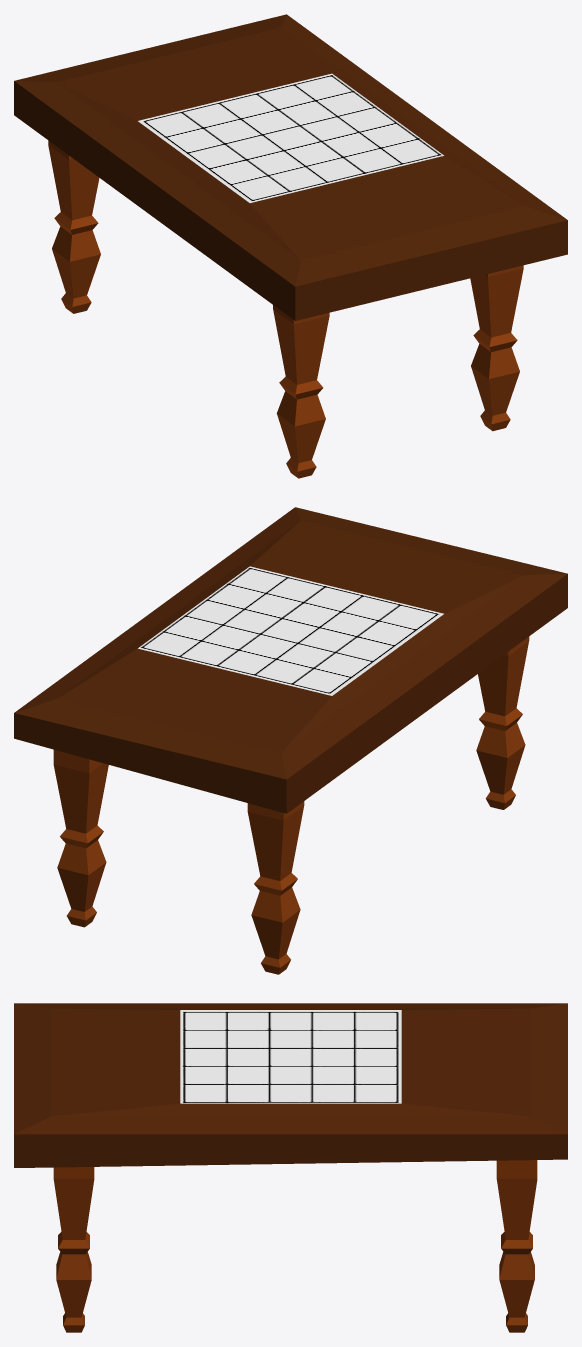
The model's file is table puzzel.fbx.
The picture shows the model from 3 angles, top to bottom: view 1: azimuth 30°, elevation 25°; view 2: azimuth 150°, elevation 25°; view 3: azimuth 270°, elevation 25°; orthographic projection.
Parts seen in each view (by area): view 1: pCube51; view 2: pCube51; view 3: pCube51.
Boxes of the visible parts, box(x1,y1,x2,y2) form: pCube51: box(14, 14, 567, 478); pCube51: box(14, 507, 567, 974); pCube51: box(14, 1003, 567, 1332).
Size of the model in its own units: 13.96 by 11.29 by 24.93.
1 material, 1 textured.
